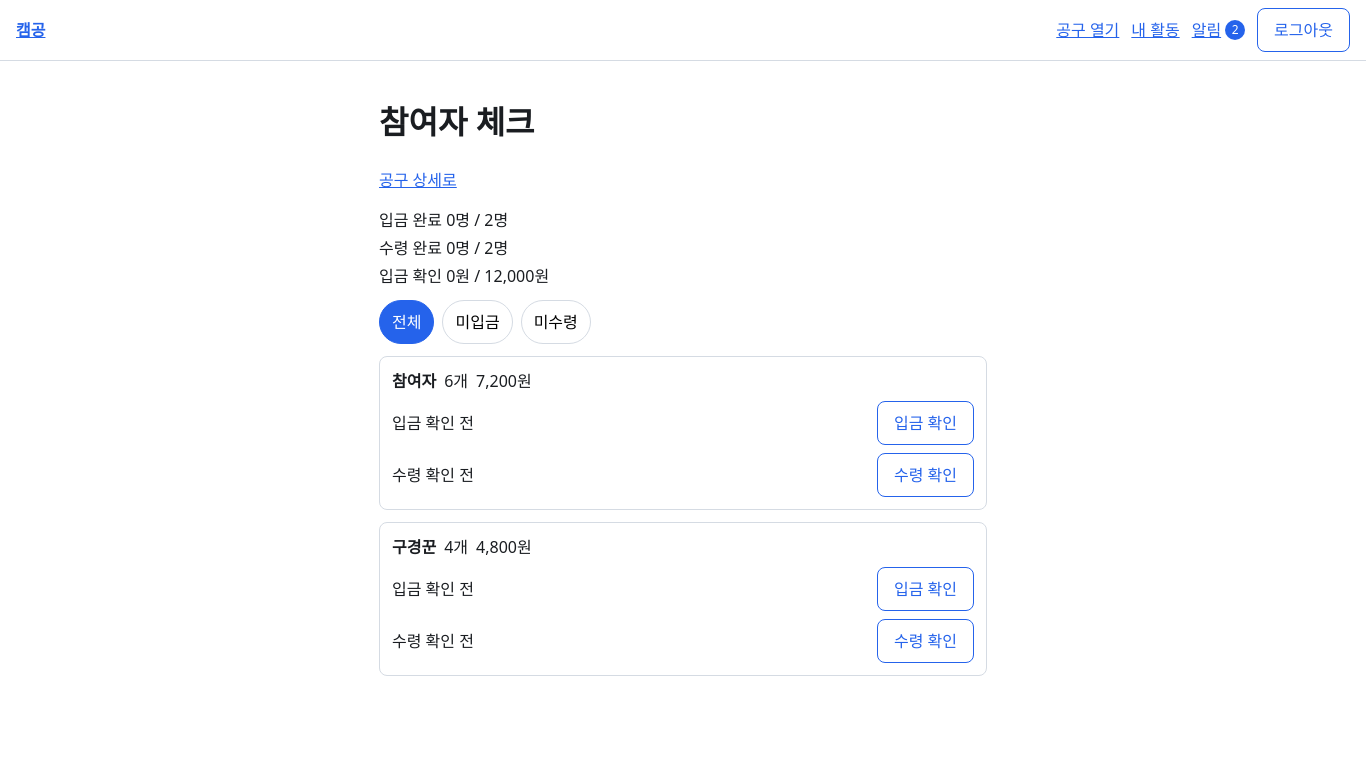
Test: 체크표 (US6) › 체크 중 NOT_CHECKABLE로 거부돼도 안내하고 상세로 보낸다
Expected: the list item "참여자" is shown, [379,356,987,510]
Click the 1st button "입금 확인". click: (926, 423)
box: [877,401,974,445]
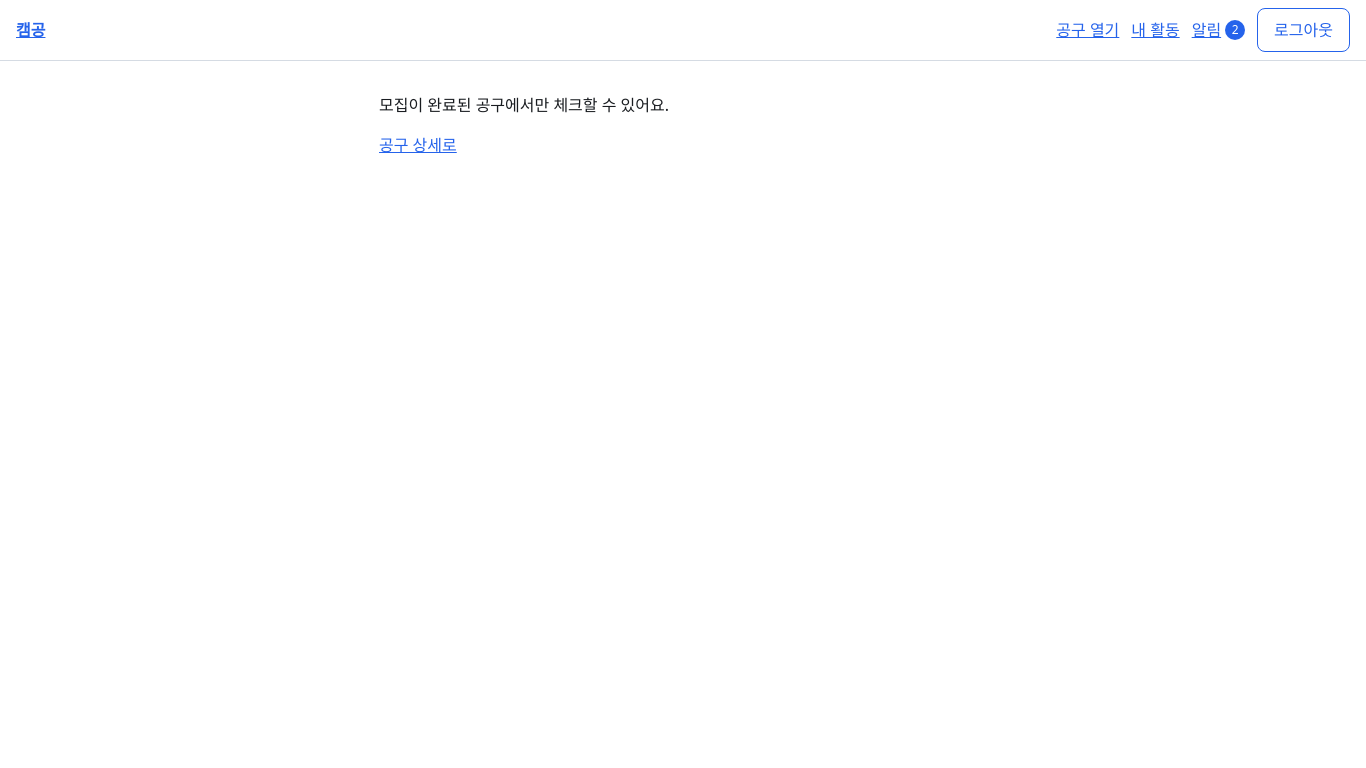
Expected: the link "공구 상세로" is shown, [379,134,457,156]
Now the text "모집이 완료된 공구에서만 체크할 수 있어요." is shown, box [379,94,669,116]
